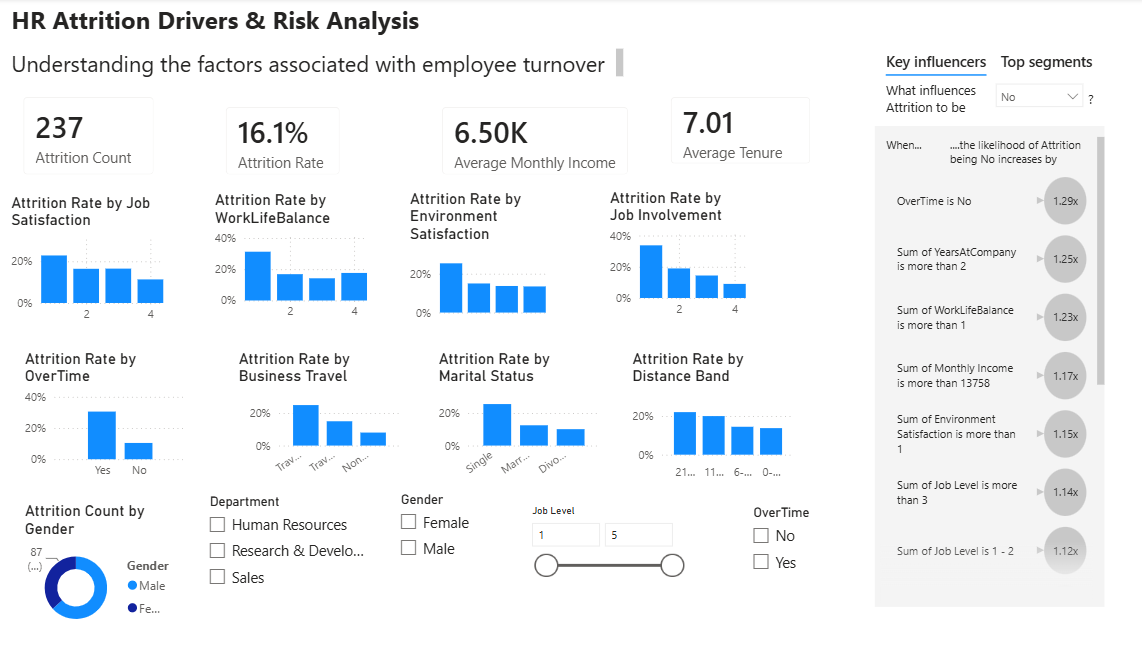

Layout of this report page (visuals, bound fields, positions):
{"tool":"powerbi","page":{"name":"Attrition Drivers","canvas":[1280,720],"ordinal":2},"visuals":[{"type":"textbox","box":[9.6,0,517.3,50.8],"z":0},{"type":"textbox","box":[9.6,50.8,682,41.2],"z":1000},{"type":"cardVisual","fields":{"Data":["EmployeeData.Attrition Count"]},"box":[11,91.9,177,119.4],"z":2000},{"type":"cardVisual","fields":{"Data":["EmployeeData.Attrition Rate"]},"box":[233.3,102.9,159.2,108.4],"z":3000},{"type":"cardVisual","fields":{"Data":["EmployeeData.Average Monthly Income"]},"box":[470.7,102.9,238.8,108.4],"z":4000},{"type":"cardVisual","fields":{"Data":["EmployeeData.Average Tenure"]},"box":[721.8,91.9,188,107],"z":5000},{"type":"clusteredColumnChart","fields":{"Y":["EmployeeData.Attrition Rate"],"Category":["EmployeeData.Job Satisfaction"]},"box":[9.6,214.1,177,150.9],"z":6000},{"type":"clusteredColumnChart","fields":{"Y":["EmployeeData.Attrition Rate"],"Category":["EmployeeData.WorkLifeBalance"]},"box":[233.3,211.3,177,150.9],"z":7000},{"type":"clusteredColumnChart","fields":{"Y":["EmployeeData.Attrition Rate"],"Category":["EmployeeData.Environment Satisfaction"]},"box":[447.3,209.9,159.2,149.6],"z":8000},{"type":"columnChart","fields":{"Category":["EmployeeData.Job Involvement"],"Y":["EmployeeData.Attrition Rate"]},"box":[666.9,208.6,159.2,150.9],"z":9000},{"type":"clusteredColumnChart","fields":{"Category":["EmployeeData.OverTime"],"Y":["EmployeeData.Attrition Rate"]},"box":[24.7,385.6,188,150.9],"z":10000},{"type":"clusteredColumnChart","fields":{"Category":["EmployeeData.Business Travel"],"Y":["EmployeeData.Attrition Rate"]},"box":[259.3,385.6,188,150.9],"z":11000},{"type":"clusteredColumnChart","fields":{"Category":["EmployeeData.Marital Status"],"Y":["EmployeeData.Attrition Rate"]},"box":[478.9,385.6,188,150.9],"z":12000},{"type":"clusteredColumnChart","fields":{"Category":["EmployeeData.Distance Band"],"Y":["EmployeeData.Attrition Rate"]},"box":[691.6,385.6,188,150.9],"z":13000},{"type":"donutChart","fields":{"Category":["EmployeeData.Gender"],"Y":["EmployeeData.Attrition Count"]},"box":[24.7,553,188,150.9],"z":14000},{"type":"keyDriversVisual","fields":{"Target":["EmployeeData.Attrition"],"ExplainBy":["Sum(EmployeeData.WorkLifeBalance)","Sum(EmployeeData.Job Satisfaction)","Sum(EmployeeData.Job Involvement)","EmployeeData.OverTime","Sum(EmployeeData.Environment Satisfaction)","Sum(EmployeeData.Job Level)","Sum(EmployeeData.Monthly Income)","Sum(EmployeeData.YearsAtCompany)","EmployeeData.Business Travel","EmployeeData.Distance Band"]},"box":[957.8,45.3,262.1,628.5],"z":15000},{"type":"slicer","fields":{"Values":["EmployeeData.Department"]},"box":[219.6,539.3,188,120.8],"z":16000},{"type":"slicer","fields":{"Values":["EmployeeData.Gender"]},"box":[429.5,536.5,160.5,94.7],"z":17000},{"type":"slicer","fields":{"Values":["EmployeeData.Job Level"]},"box":[573.6,551.6,188,94.7],"z":18000},{"type":"slicer","fields":{"Values":["EmployeeData.OverTime"]},"box":[816.5,551.6,115.3,97.4],"z":19000}]}

Visuals, with their boxes in screenshot pixels (x1, y1, x2, y2), scaled from the page's 1280x720 canvas onto the 1142x646 screenshot:
textbox: <region>9, 0, 470, 46</region>
textbox: <region>9, 46, 617, 83</region>
cardVisual - EmployeeData.Attrition Count: <region>10, 82, 168, 190</region>
cardVisual - EmployeeData.Attrition Rate: <region>208, 92, 350, 190</region>
cardVisual - EmployeeData.Average Monthly Income: <region>420, 92, 633, 190</region>
cardVisual - EmployeeData.Average Tenure: <region>644, 82, 812, 178</region>
clusteredColumnChart - EmployeeData.Attrition Rate x EmployeeData.Job Satisfaction: <region>9, 192, 166, 327</region>
clusteredColumnChart - EmployeeData.Attrition Rate x EmployeeData.WorkLifeBalance: <region>208, 190, 366, 325</region>
clusteredColumnChart - EmployeeData.Attrition Rate x EmployeeData.Environment Satisfaction: <region>399, 188, 541, 323</region>
columnChart - EmployeeData.Job Involvement x EmployeeData.Attrition Rate: <region>595, 187, 737, 323</region>
clusteredColumnChart - EmployeeData.OverTime x EmployeeData.Attrition Rate: <region>22, 346, 190, 481</region>
clusteredColumnChart - EmployeeData.Business Travel x EmployeeData.Attrition Rate: <region>231, 346, 399, 481</region>
clusteredColumnChart - EmployeeData.Marital Status x EmployeeData.Attrition Rate: <region>427, 346, 595, 481</region>
clusteredColumnChart - EmployeeData.Distance Band x EmployeeData.Attrition Rate: <region>617, 346, 785, 481</region>
donutChart - EmployeeData.Gender x EmployeeData.Attrition Count: <region>22, 496, 190, 632</region>
keyDriversVisual - EmployeeData.Attrition x Sum(EmployeeData.WorkLifeBalance): <region>855, 41, 1088, 605</region>
slicer - EmployeeData.Department: <region>196, 484, 364, 592</region>
slicer - EmployeeData.Gender: <region>383, 481, 526, 566</region>
slicer - EmployeeData.Job Level: <region>512, 495, 679, 580</region>
slicer - EmployeeData.OverTime: <region>728, 495, 831, 582</region>
